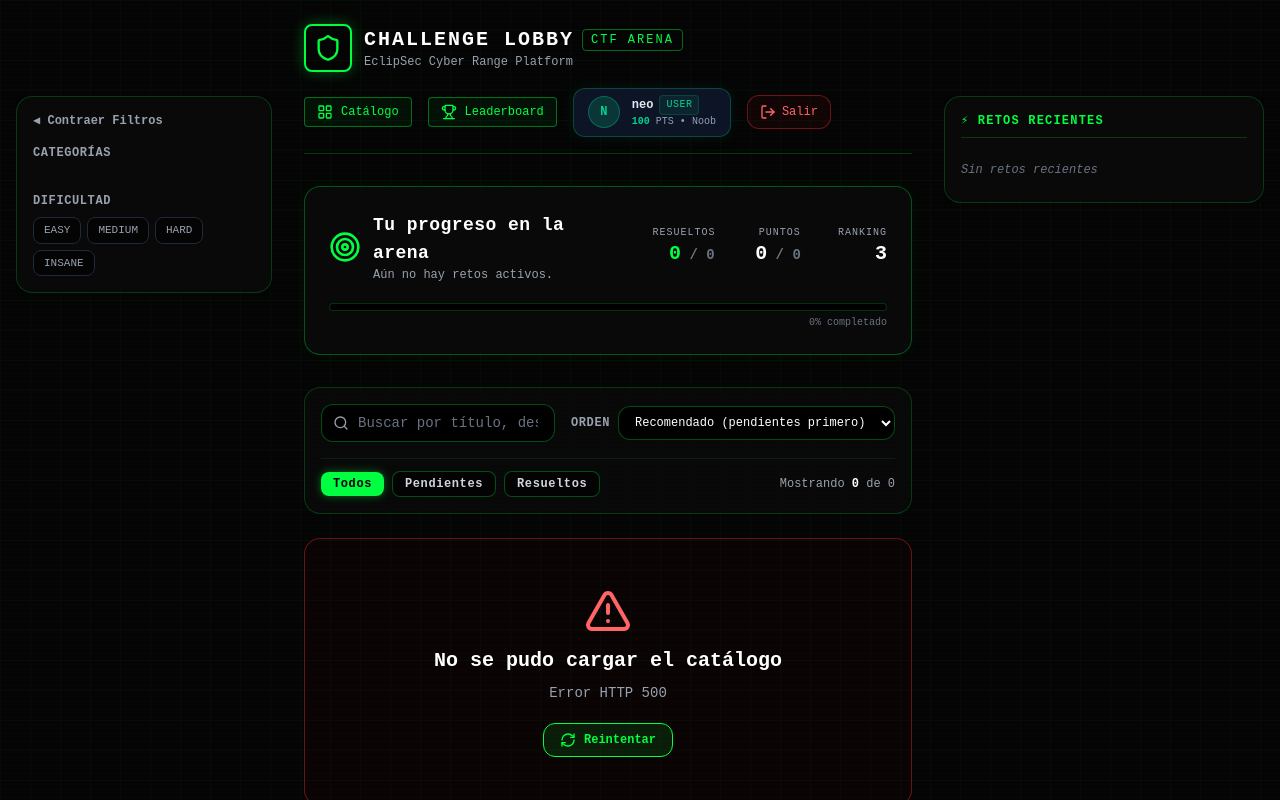
Test case: CTFLobby page › surfaces a load error and refetches on retry instead of swallowing it
This screenshot has width=1280, height=800.
Expected: the message shows "Error HTTP 500", [549,685,667,701]
Click the button "Reintentar". click: (608, 740)
box: [543,723,673,757]
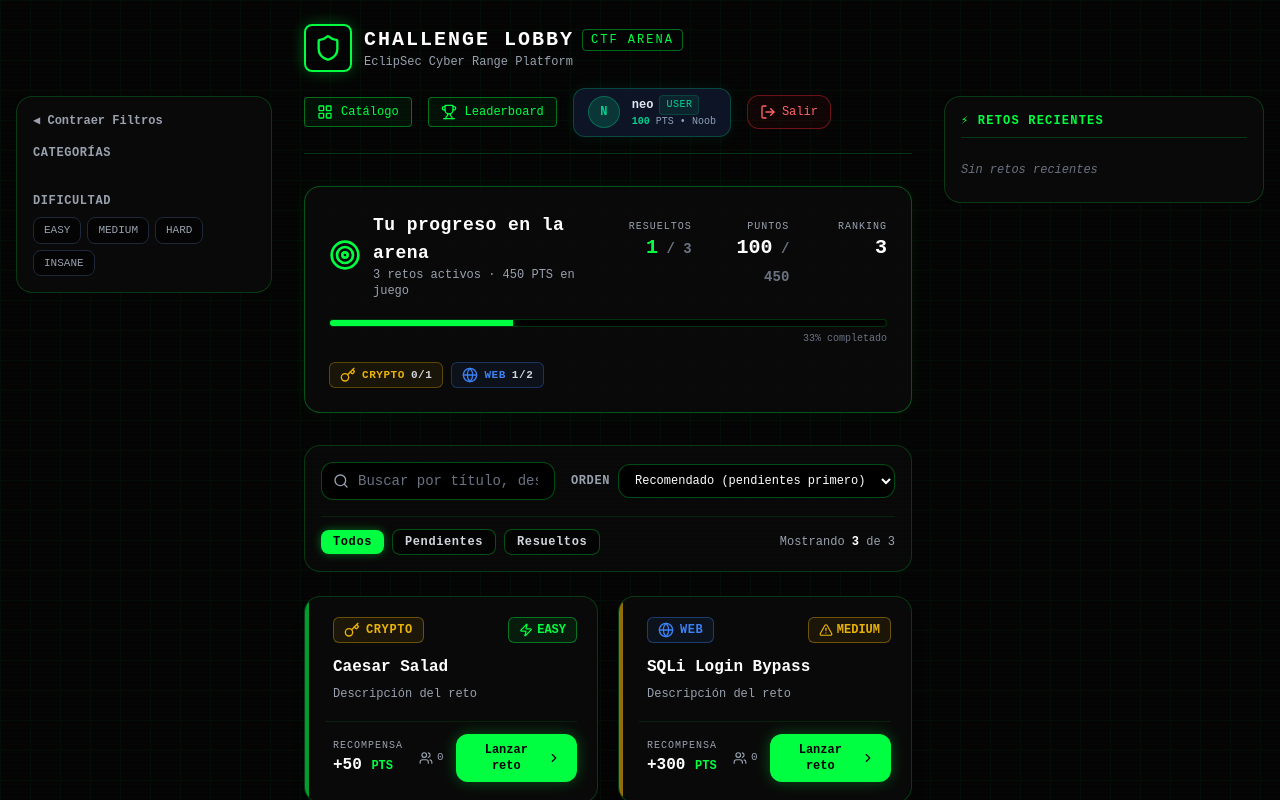
Expected: the heading "SQLi Login Bypass" is shown, [647,658,810,676]
